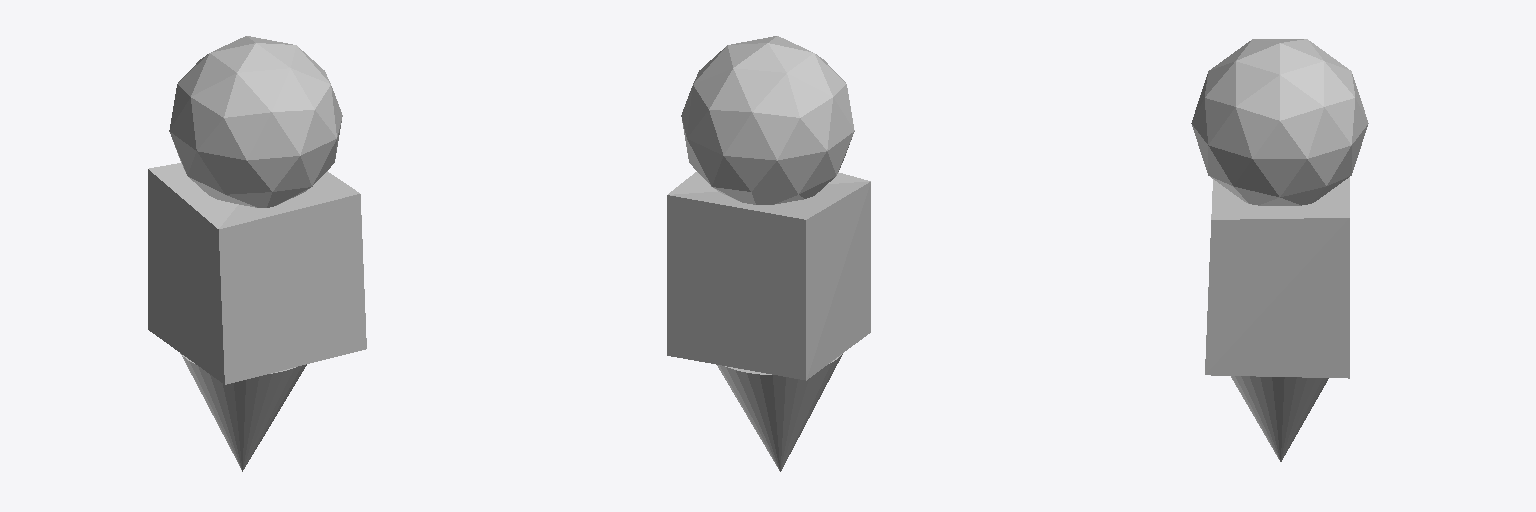
The model's file is Playerthing.obj.
3 renders of one model, left to right at view 1: azimuth 30°, elevation 25°; view 2: azimuth 150°, elevation 25°; view 3: azimuth 270°, elevation 25°, orthographic.
Parts seen in each view (by area): view 1: Cone; view 2: Cone; view 3: Cone.
Boxes of the visible parts, <box> form: Cone: <box>148,36,366,471</box>; Cone: <box>667,36,870,471</box>; Cone: <box>1191,39,1368,461</box>.
Size of the model in its own units: 1.91 by 5.3 by 2.